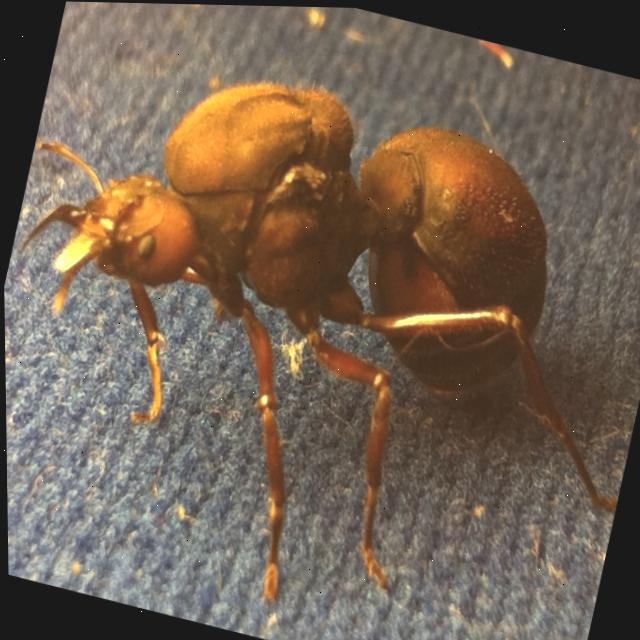Alive-Female-Dealate: (0, 18, 640, 640)
